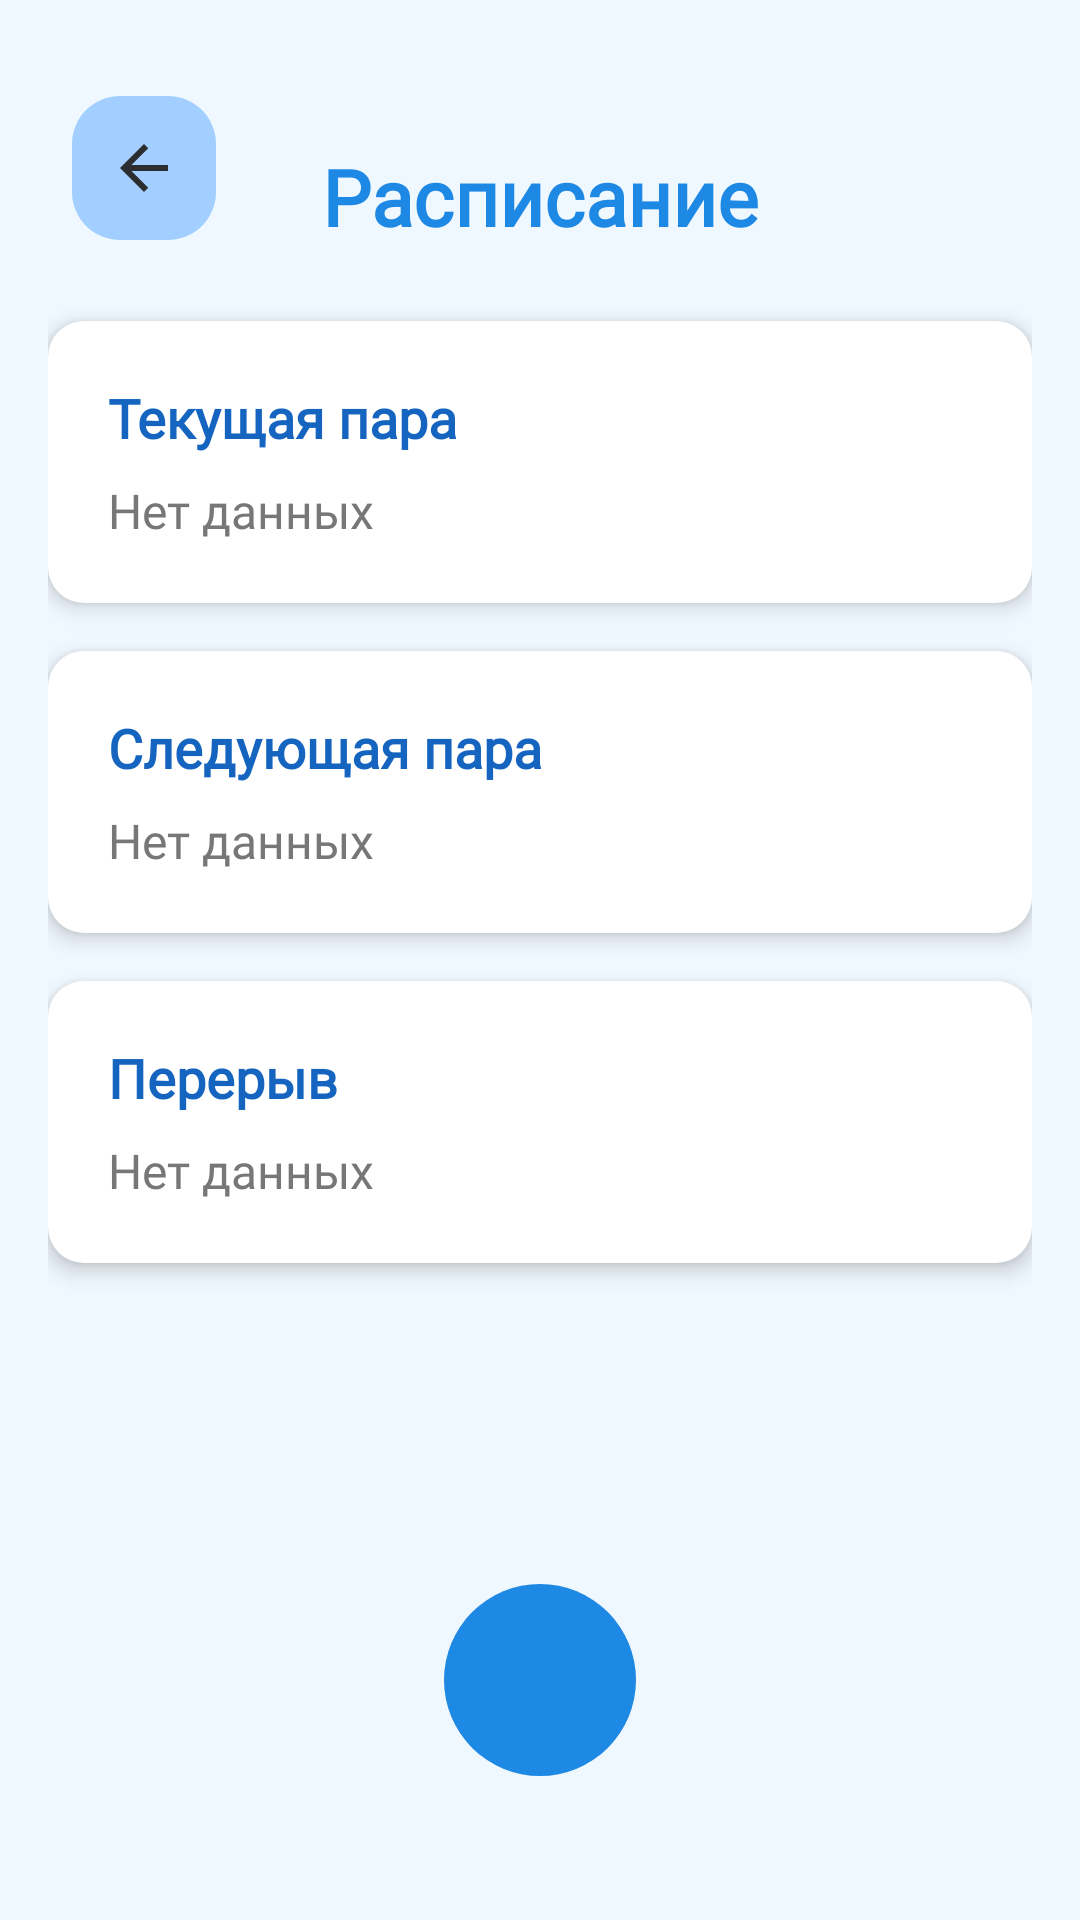

Named icons in this screenshot (1080 × 1920) and their centers, (x=x, y=y):
Кнопка назад: (x=144, y=168)
